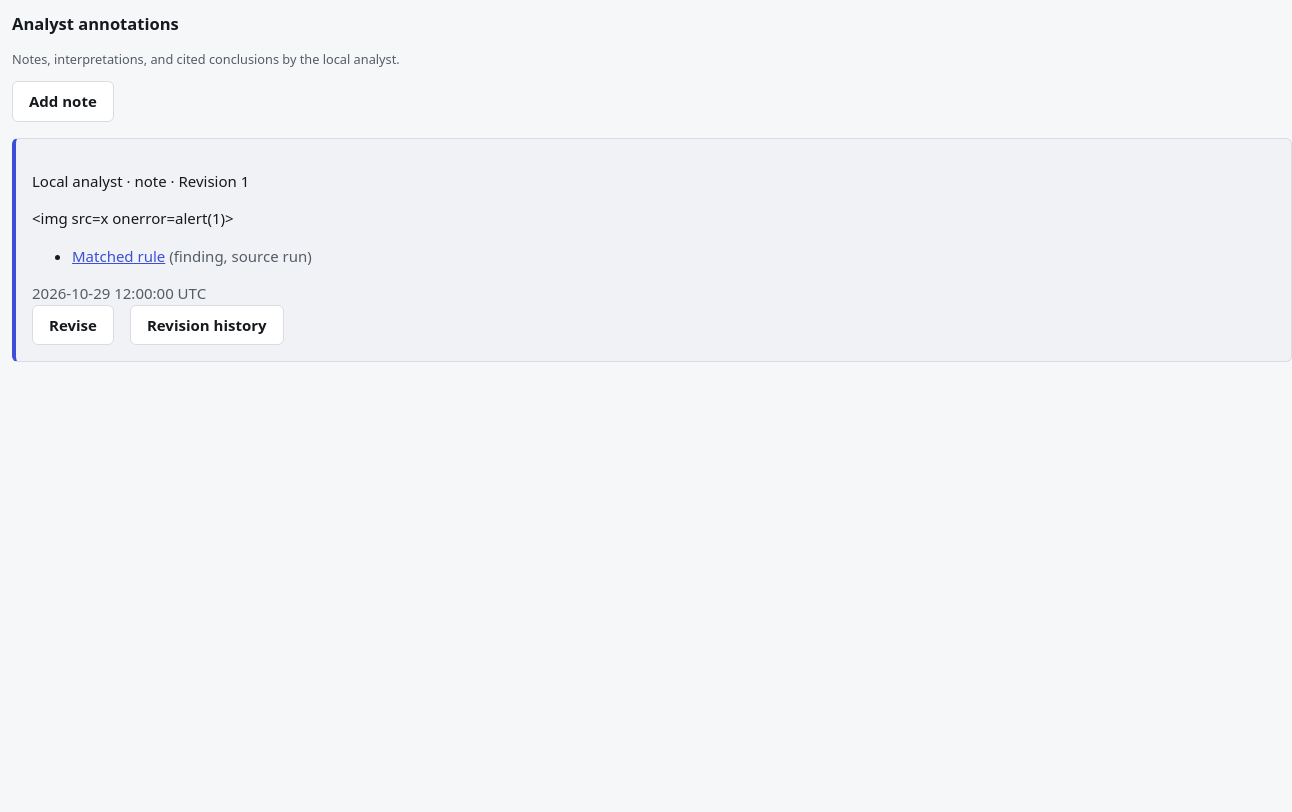
Annotations › renders plain text, citation links and paginated history
Expected: the text "<img src=x onerror=alert(1)>" is shown, [32,208,234,228]
Expected: the text "Local analyst" is shown, [32,171,122,191]
Step 1. Click the button "Revision history" → (207, 325), box [130,305,284,345]
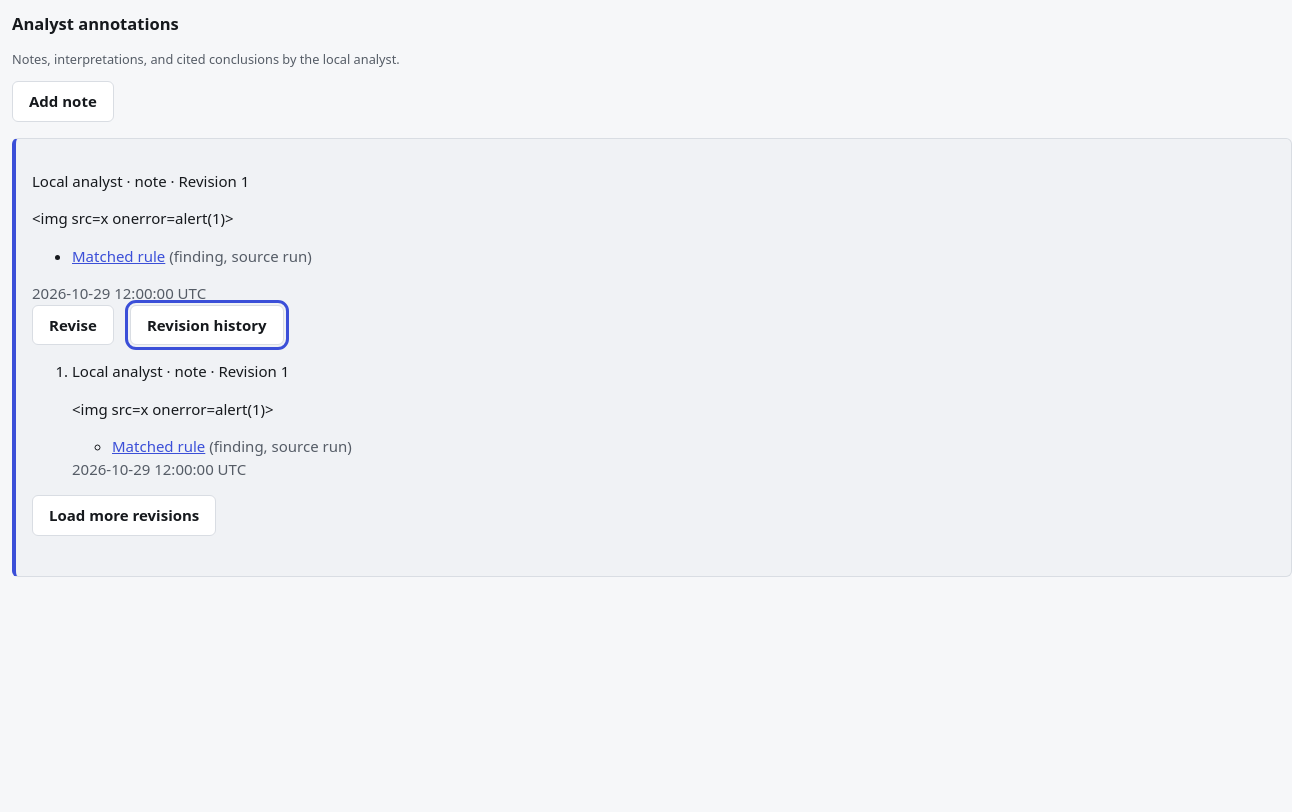
Step 2. Click the button "Load more revisions" → (124, 516), box [32,495,216,536]
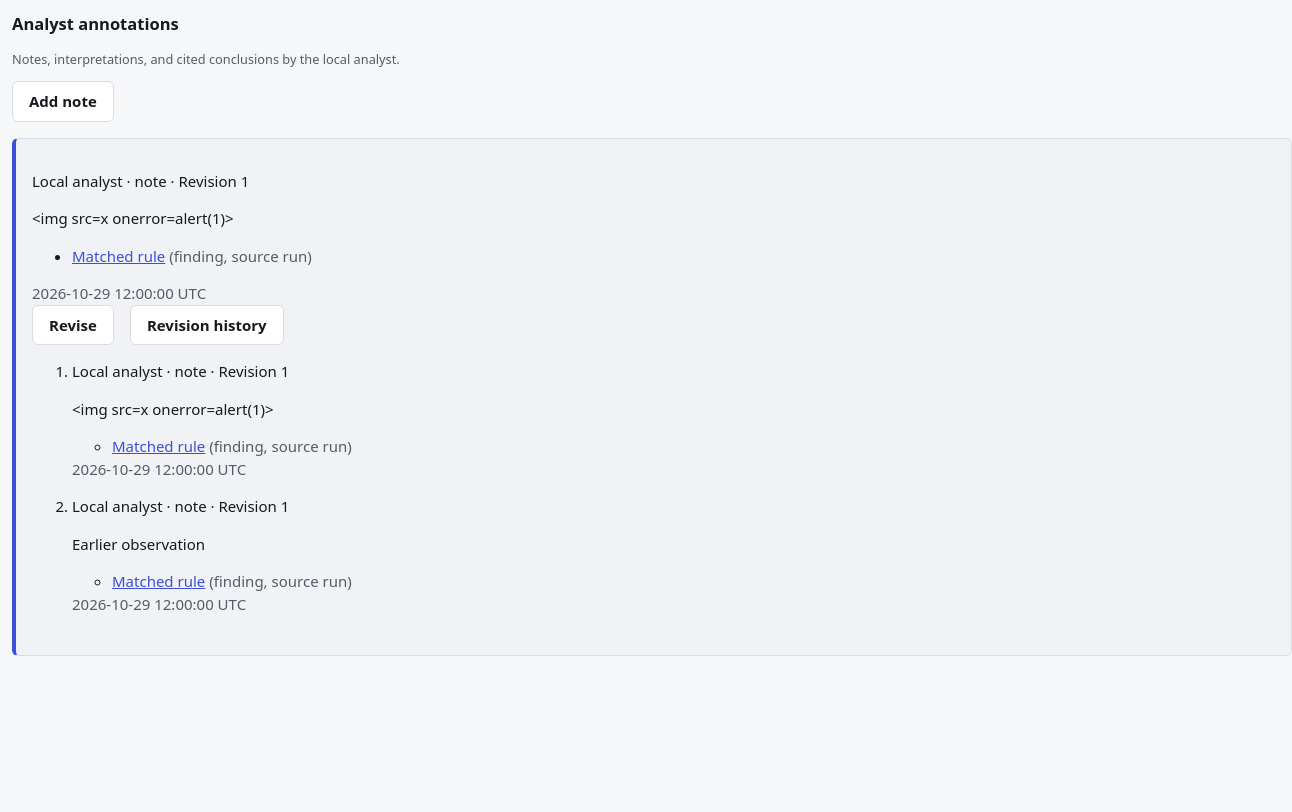
Expected: the text "Earlier observation" is shown, [72,534,205,554]
